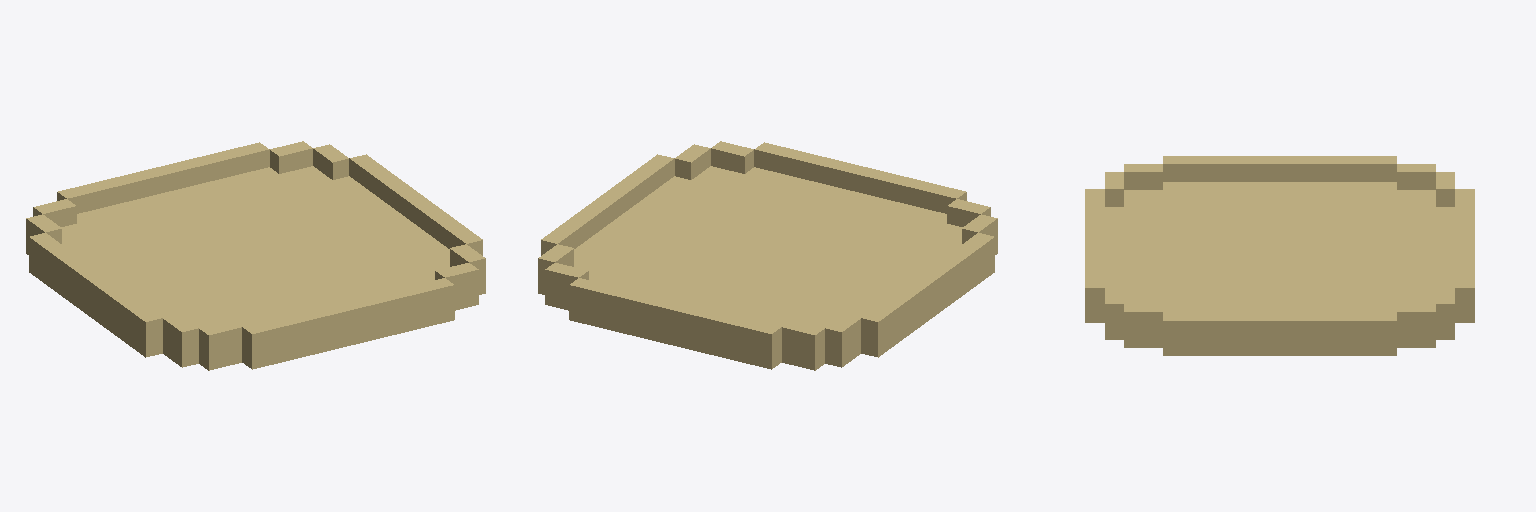
The picture shows the model from 3 angles: view 1: azimuth 30°, elevation 25°; view 2: azimuth 150°, elevation 25°; view 3: azimuth 270°, elevation 25°; orthographic projection.
Visible parts, largest first — view 1: object 1; view 2: object 1; view 3: object 1.
Part boxes in pixels (bbox=[...]): object 1: bbox=[26, 141, 485, 370]; object 1: bbox=[538, 141, 997, 370]; object 1: bbox=[1085, 156, 1474, 355].
Bounding box in the file's own units: 2 × 0.2 × 2.
Materials: 1 (1 with a texture image).